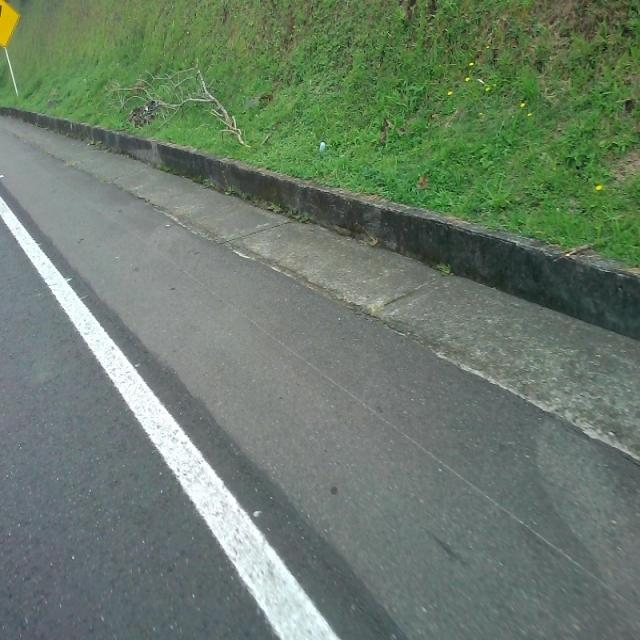DITCH: (1, 62, 638, 638), (1, 107, 638, 638)
